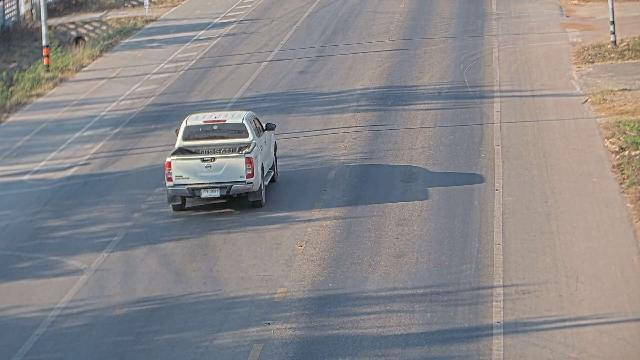pickup-truck: (163, 109, 279, 212)
